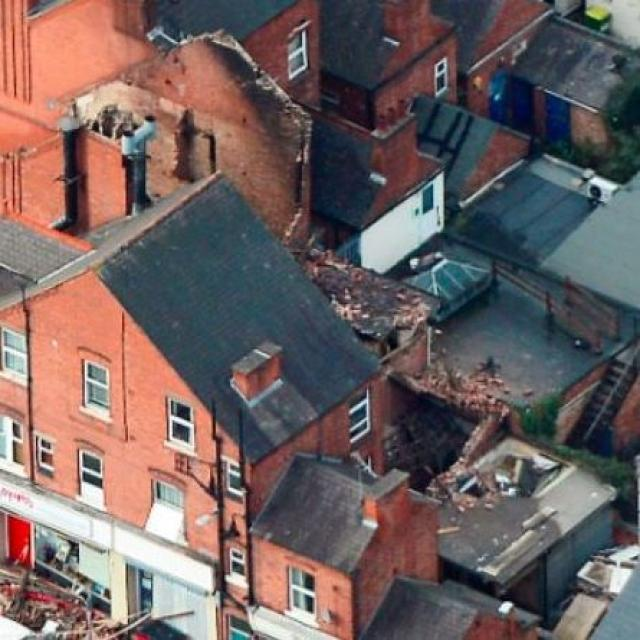collapsed_building: (100, 24, 444, 497)
